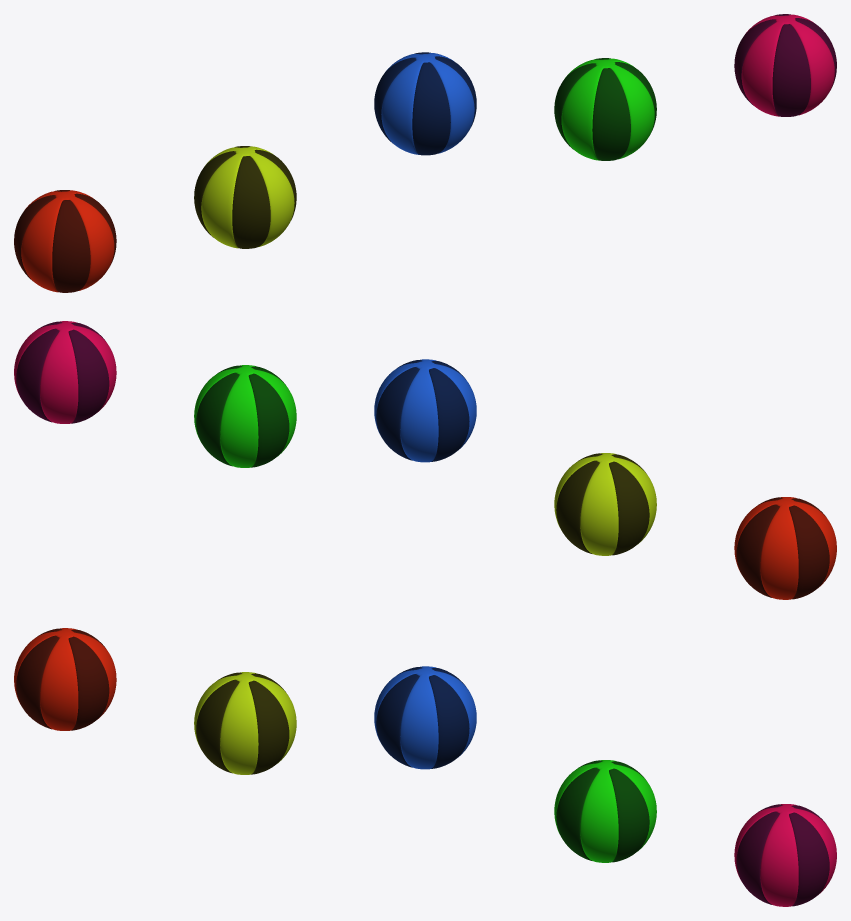
Rendered from five_balls.obj.
The picture shows the model from 3 angles, top to bottom: view 1: azimuth 30°, elevation 25°; view 2: azimuth 150°, elevation 25°; view 3: azimuth 330°, elevation 25°; orthographic projection.
Visible parts, largest first — view 1: GEO-Ball.003, GEO-Ball.002, GEO-Ball.004, GEO-Ball.1, GEO-Ball.005; view 2: GEO-Ball.003, GEO-Ball.002, GEO-Ball.004, GEO-Ball.1, GEO-Ball.005; view 3: GEO-Ball.003, GEO-Ball.002, GEO-Ball.004, GEO-Ball.1, GEO-Ball.005.
Boxes of the visible parts, <box> form: GEO-Ball.003: <box>374,52,476,155</box>; GEO-Ball.002: <box>194,146,296,248</box>; GEO-Ball.004: <box>554,58,656,160</box>; GEO-Ball.1: <box>14,190,116,292</box>; GEO-Ball.005: <box>734,14,836,116</box>; GEO-Ball.003: <box>374,359,476,462</box>; GEO-Ball.002: <box>554,453,656,555</box>; GEO-Ball.004: <box>194,365,296,467</box>; GEO-Ball.1: <box>734,497,836,599</box>; GEO-Ball.005: <box>14,321,116,423</box>; GEO-Ball.003: <box>374,666,476,769</box>; GEO-Ball.002: <box>194,672,296,774</box>; GEO-Ball.004: <box>554,760,656,862</box>; GEO-Ball.1: <box>14,628,116,730</box>; GEO-Ball.005: <box>734,804,836,906</box>.
Size of the model in its own units: 2.7 by 0.4572 by 0.2957.
